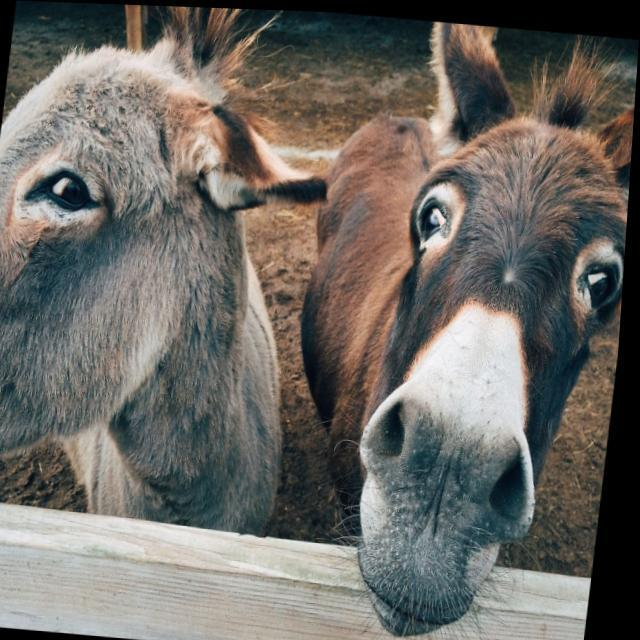Donkey: (270, 9, 640, 640), (0, 37, 351, 568)
